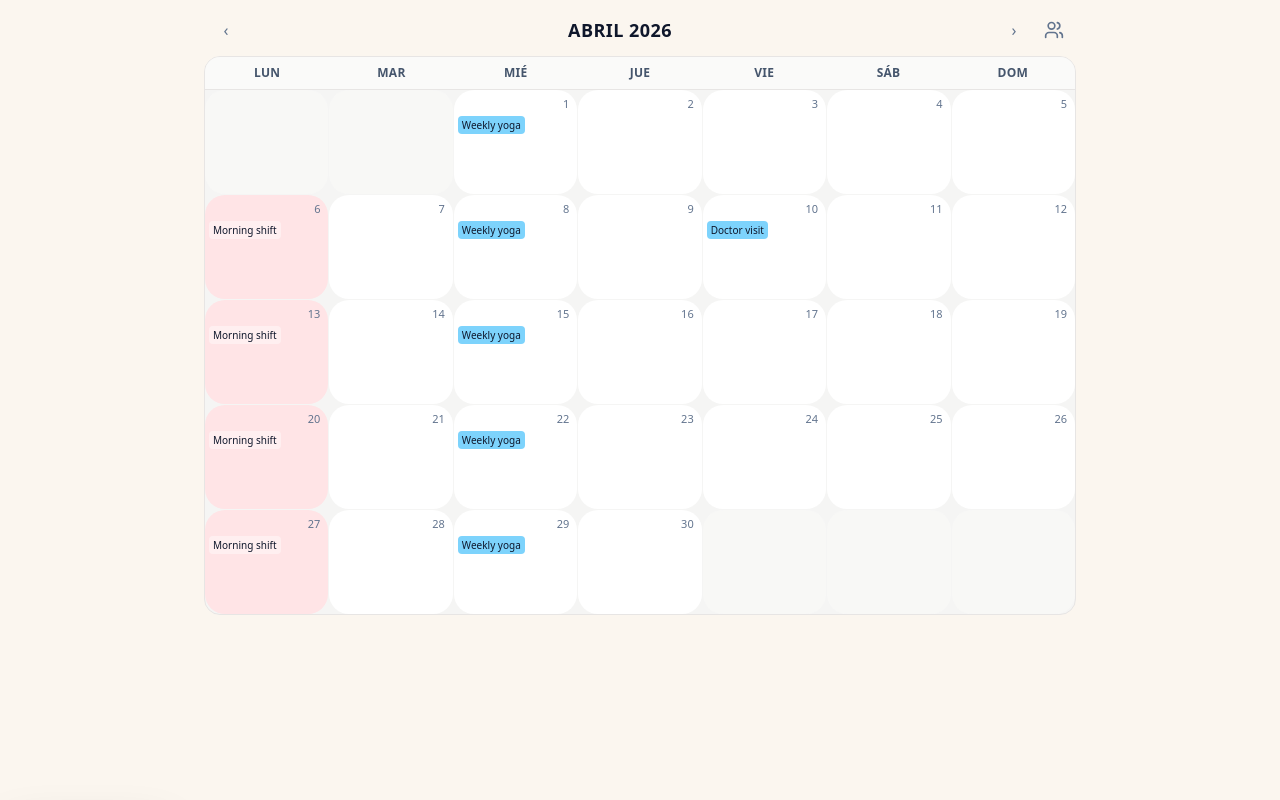
Test case: CalendarGrid › hides events for a toggled-off member
This screenshot has width=1280, height=800.
# Open the member filter sheet first
Click the button named "filtrar miembros". click: (1054, 30)
box: [1036, 12, 1072, 48]
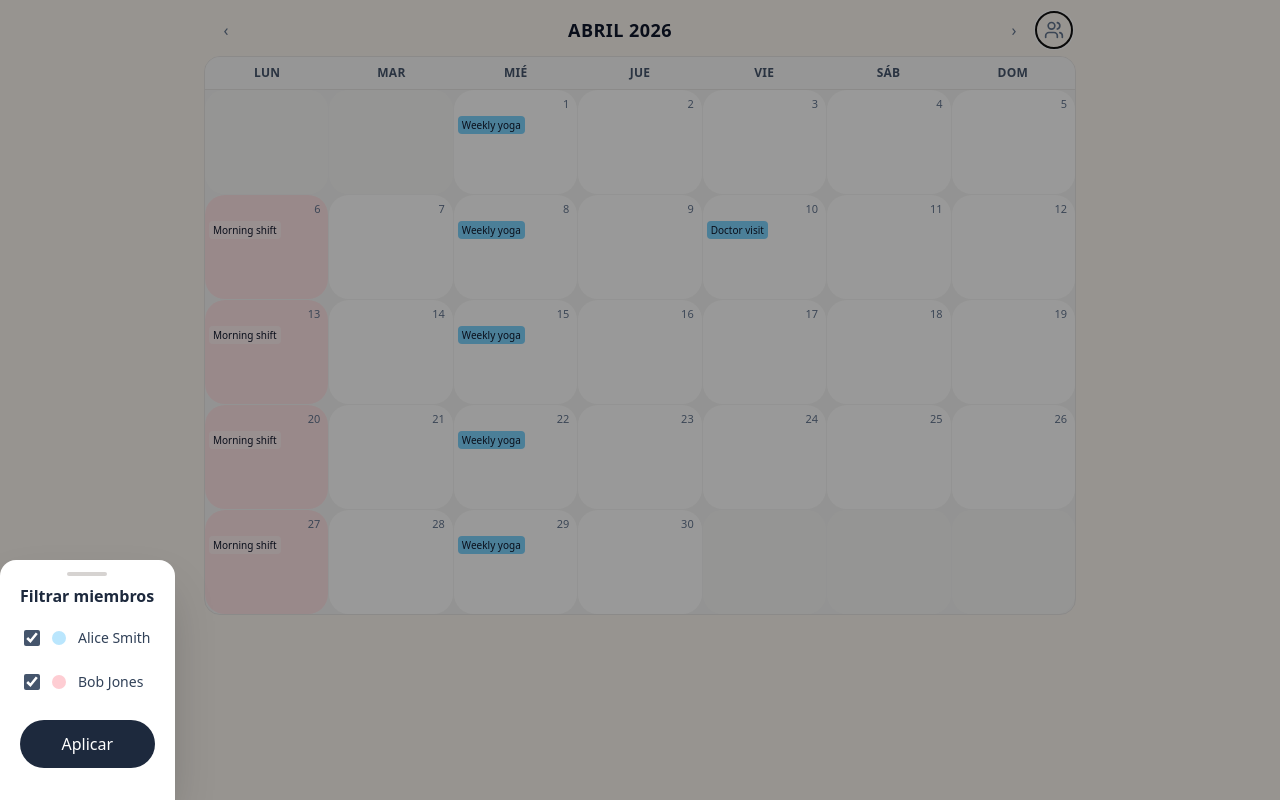
# First checkbox is Alice
Click the checkbox labelled "Alice Smith". click: (32, 638)
box: [24, 630, 40, 646]
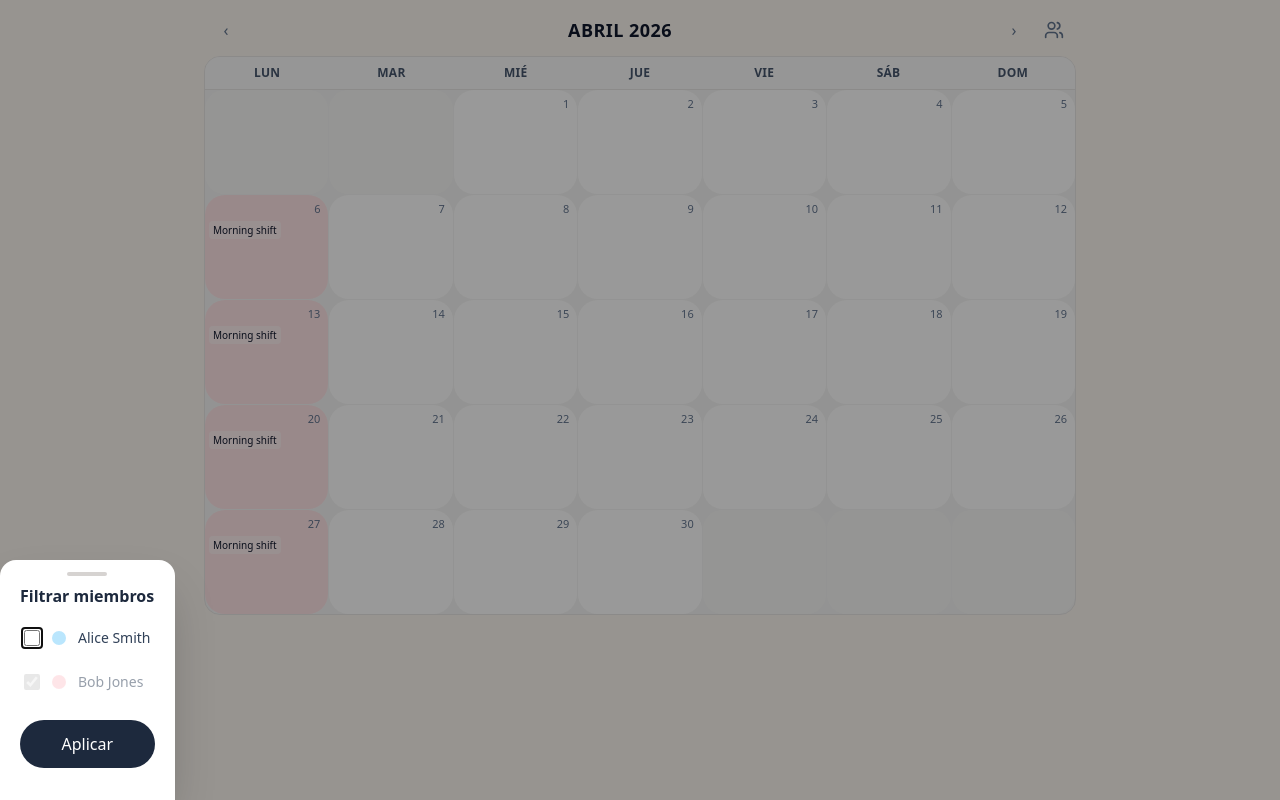
Now the text "Doctor visit" is gone
